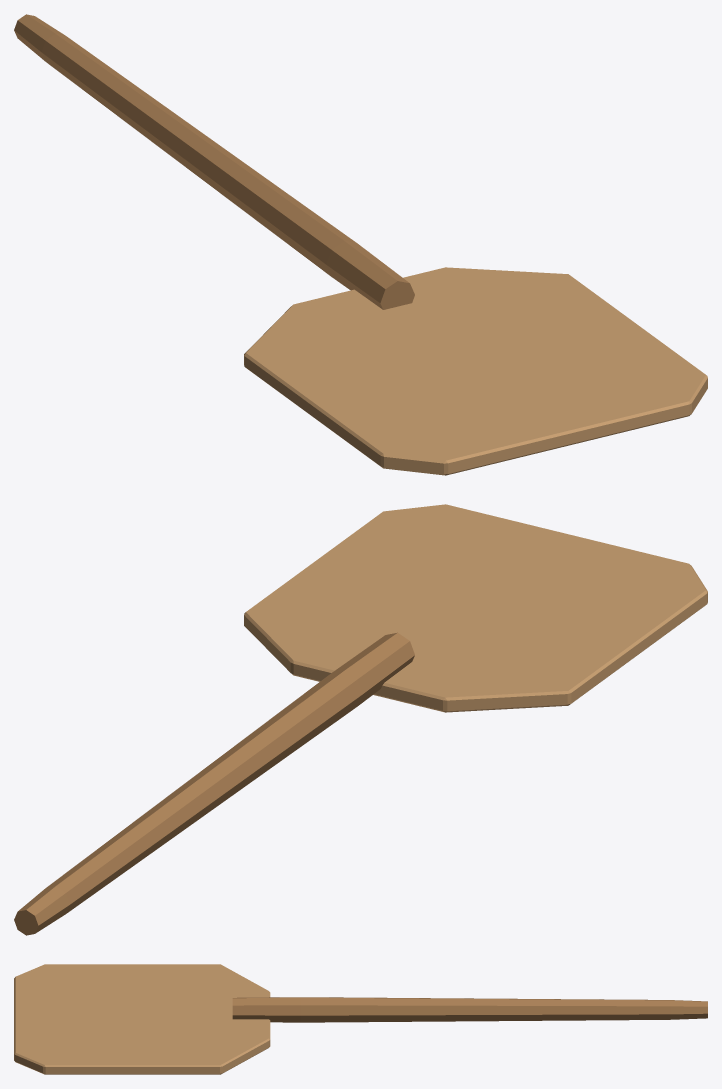
3 views of the same model, one above another, from view 1: azimuth 30°, elevation 25°; view 2: azimuth 150°, elevation 25°; view 3: azimuth 270°, elevation 25° (orthographic). The views are drawn at different scales.
Parts seen in each view (by area): view 1: Broad thin peel blade, Long tapered peel handle; view 2: Broad thin peel blade, Long tapered peel handle; view 3: Broad thin peel blade, Long tapered peel handle.
Part boxes in pixels (left/top/right/bottom): Broad thin peel blade: left=244, top=267, right=707, bottom=475; Long tapered peel handle: left=14, top=14, right=414, bottom=309; Broad thin peel blade: left=244, top=504, right=707, bottom=712; Long tapered peel handle: left=14, top=632, right=414, bottom=935; Broad thin peel blade: left=14, top=964, right=270, bottom=1074; Long tapered peel handle: left=232, top=997, right=707, bottom=1022.
Bounding box in the file's own units: 0.32 × 0.039 × 0.92.
